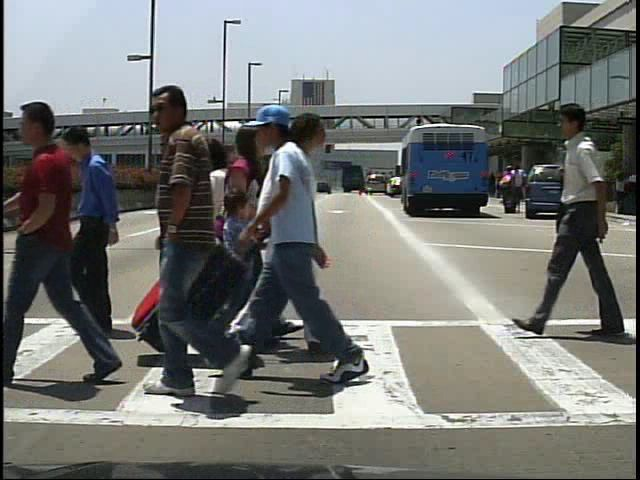person: (139, 84, 267, 421), (5, 91, 103, 390), (257, 105, 361, 386), (216, 112, 332, 363), (535, 99, 616, 341), (49, 122, 132, 341), (221, 122, 280, 361), (149, 129, 221, 322), (184, 134, 254, 329), (217, 184, 259, 332), (582, 165, 602, 218), (498, 166, 516, 219), (513, 165, 530, 215)
